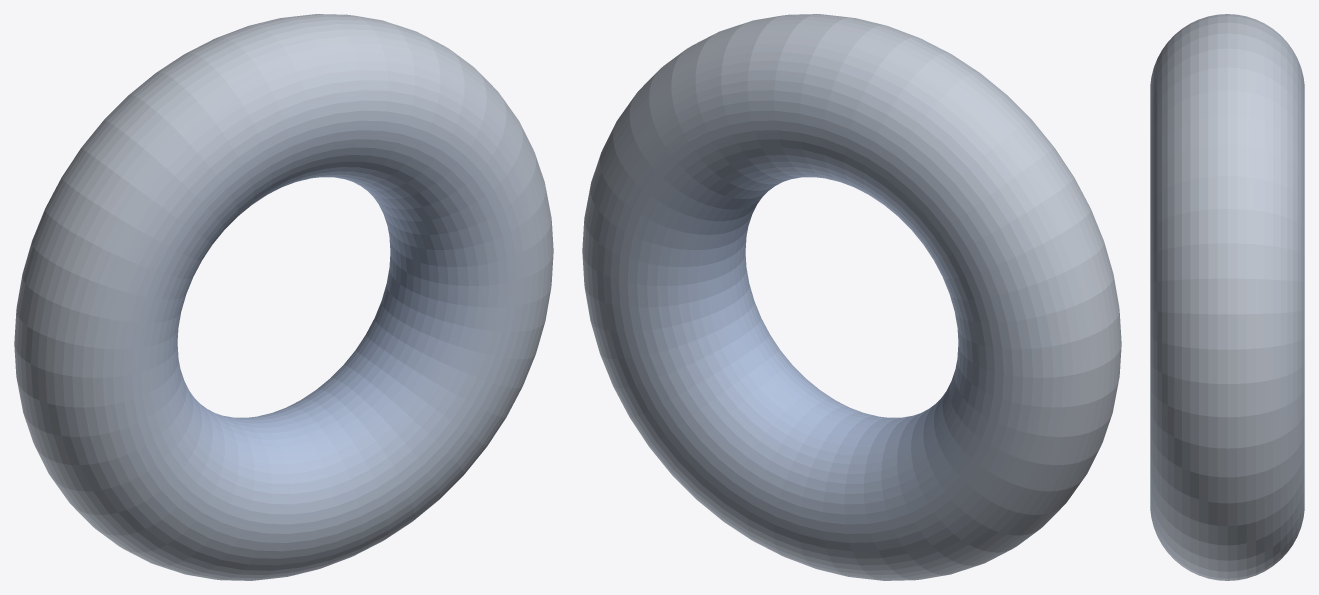
3 renders of one model, left to right at view 1: azimuth 30°, elevation 25°; view 2: azimuth 150°, elevation 25°; view 3: azimuth 270°, elevation 25°, orthographic. The views are drawn at different scales.
Parts seen in each view (by area): view 1: world; view 2: world; view 3: world.
Boxes of the visible parts, box(x1,y1,x2,y2) form: world: box(14, 14, 553, 580); world: box(582, 14, 1121, 580); world: box(1150, 14, 1304, 580).
Bounding box in the file's own units: 22.93 × 22.89 × 6.25.
